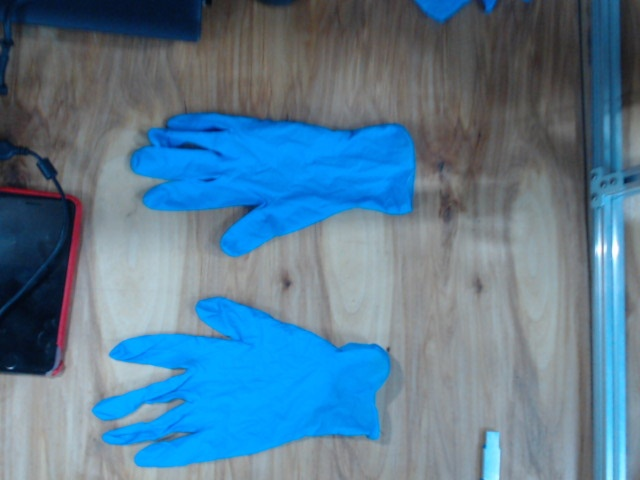medical_glove: (96, 297, 390, 467), (130, 111, 416, 254)
